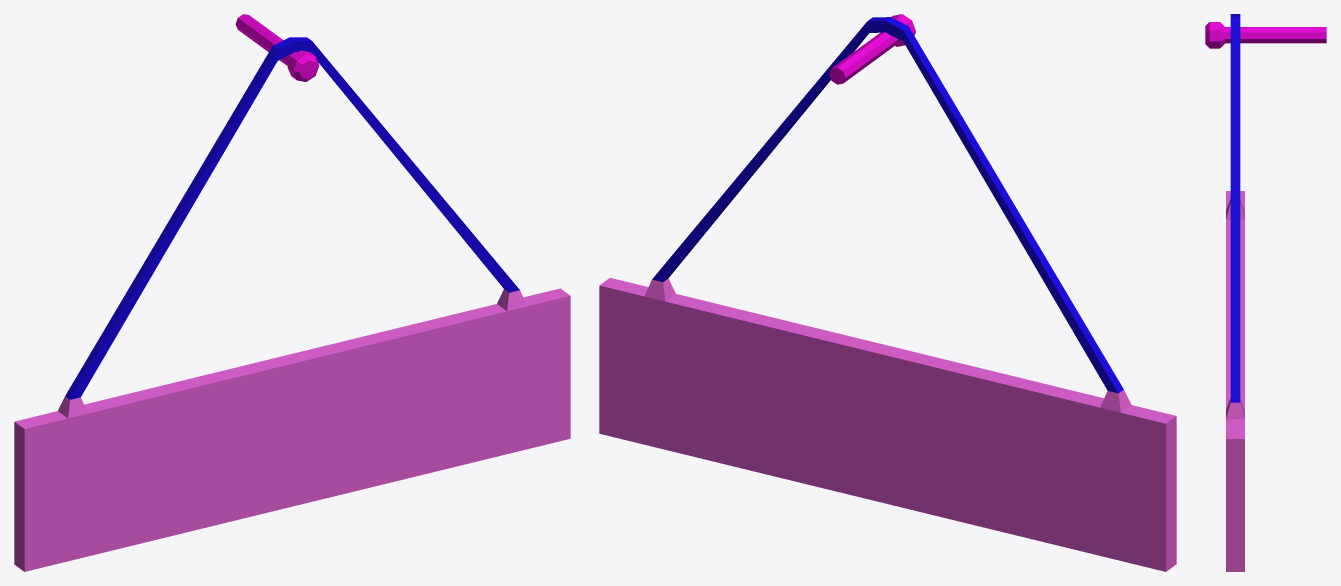
File: insegna_Formaggi.fbx
3 views of the same model, side by side, from view 1: azimuth 30°, elevation 25°; view 2: azimuth 150°, elevation 25°; view 3: azimuth 270°, elevation 25° (orthographic). The views are drawn at different scales.
Parts seen in each view (by area): view 1: Formaggi; view 2: Formaggi; view 3: Formaggi.
Part boxes in pixels (x1,y1,x2,y2): Formaggi: [14, 14, 570, 571]; Formaggi: [599, 14, 1176, 571]; Formaggi: [1205, 14, 1326, 571].
Size of the model in its own units: 600 by 486 by 124.
